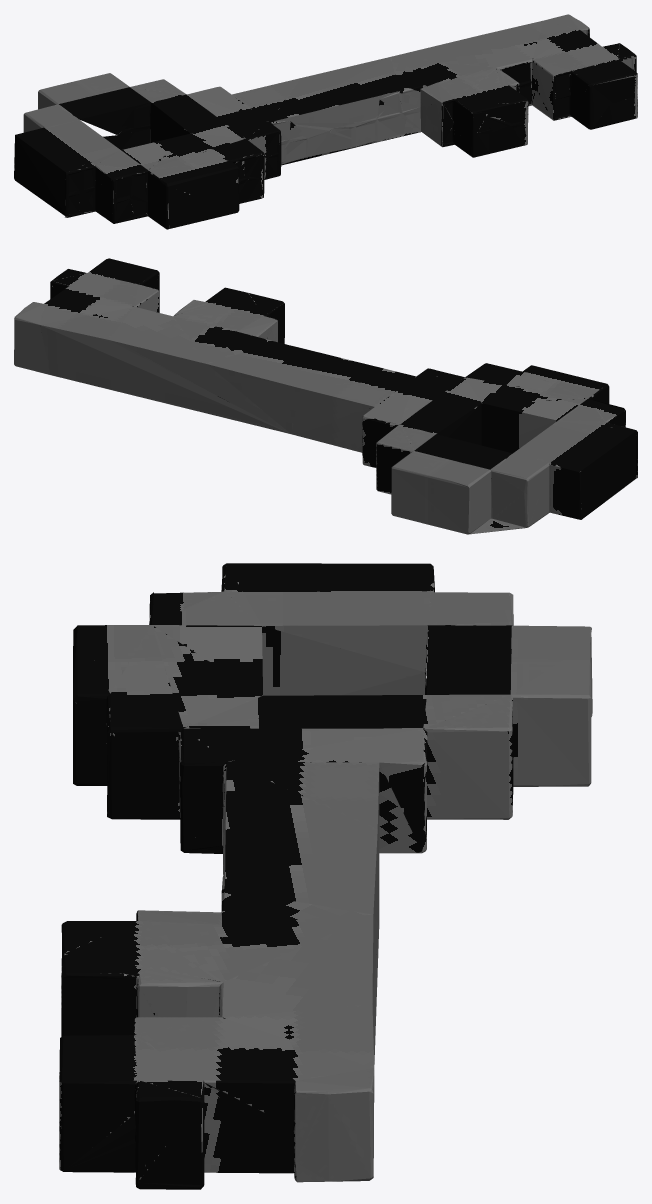
3 views of the same model, one above another, from view 1: azimuth 30°, elevation 25°; view 2: azimuth 150°, elevation 25°; view 3: azimuth 270°, elevation 25° (orthographic). The views are drawn at different scales.
Parts seen in each view (by area): view 1: OBJ104; view 2: OBJ104; view 3: OBJ104.
Part boxes in pixels (x1,y1,x2,y2): OBJ104: (14,14,637,229); OBJ104: (14,258,637,534); OBJ104: (59,563,592,1189).
Bounding box in the file's own units: 0.3226 × 0.0259 × 0.1355.
1 material, 1 textured.
